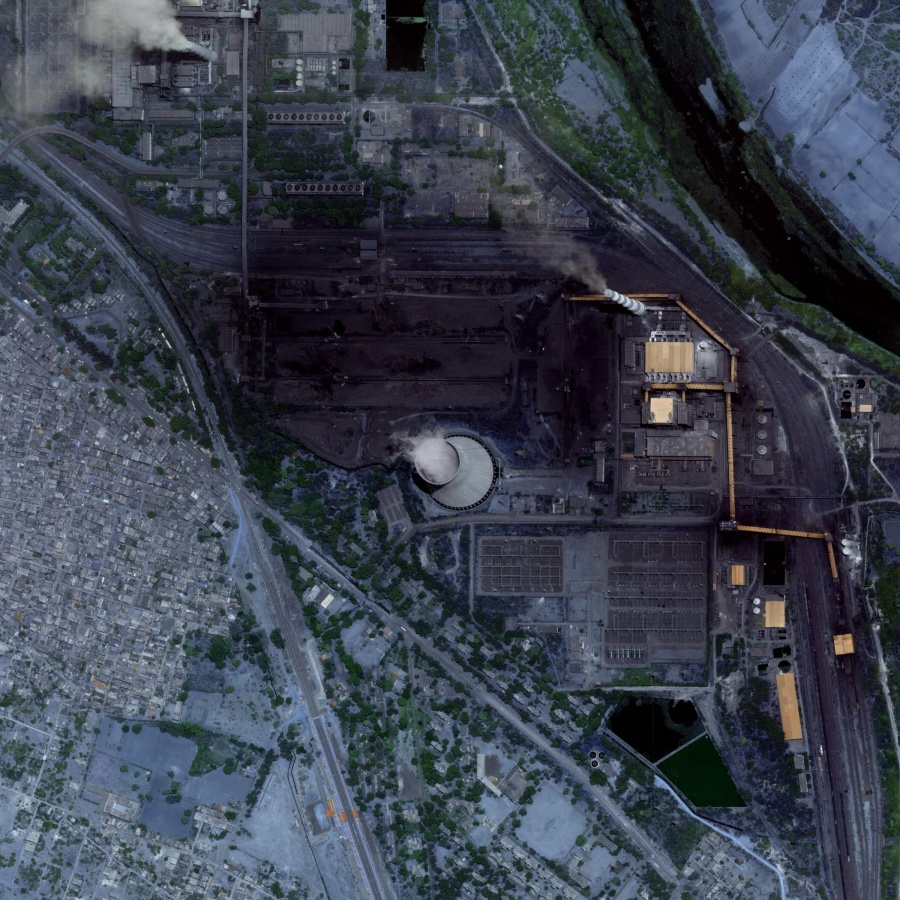PowerPlant: (213, 188, 706, 542)
